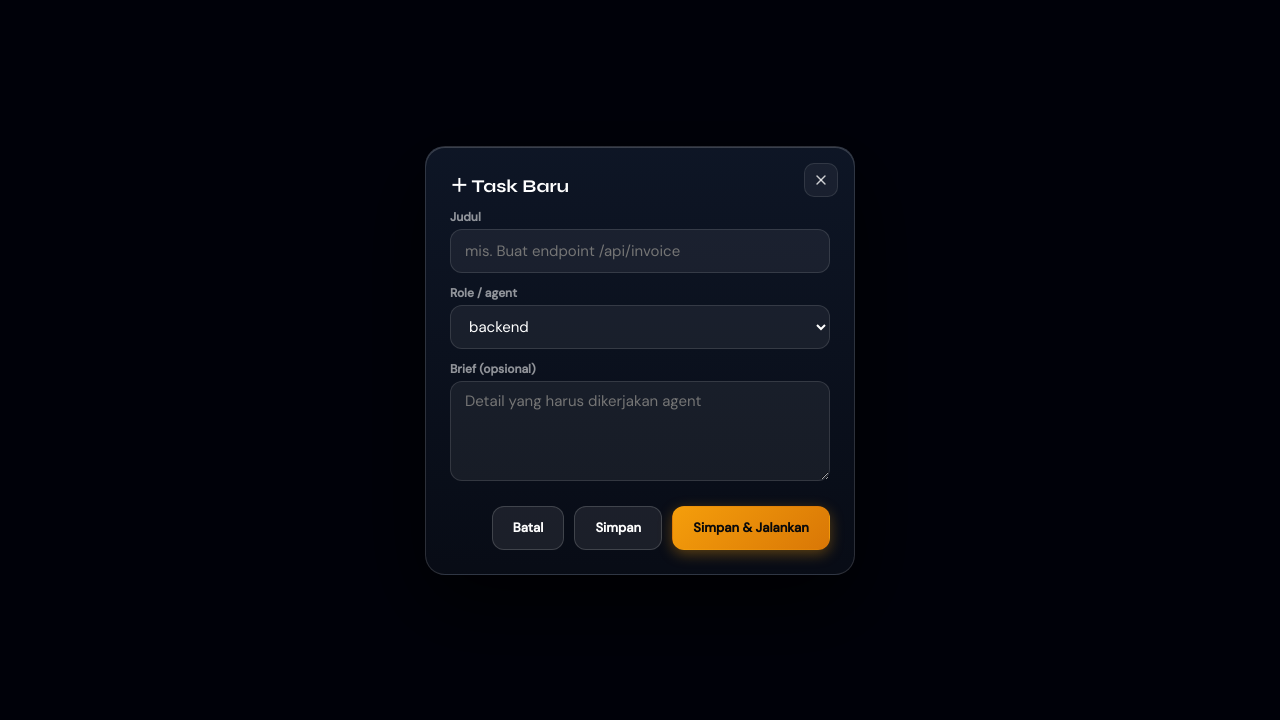
TaskModal › error API saat submit → pesan tampil di elemen alert, modal tetap terbuka
Type "X" into the field labelled "Judul" at (640, 250), box [450,228,830,272]
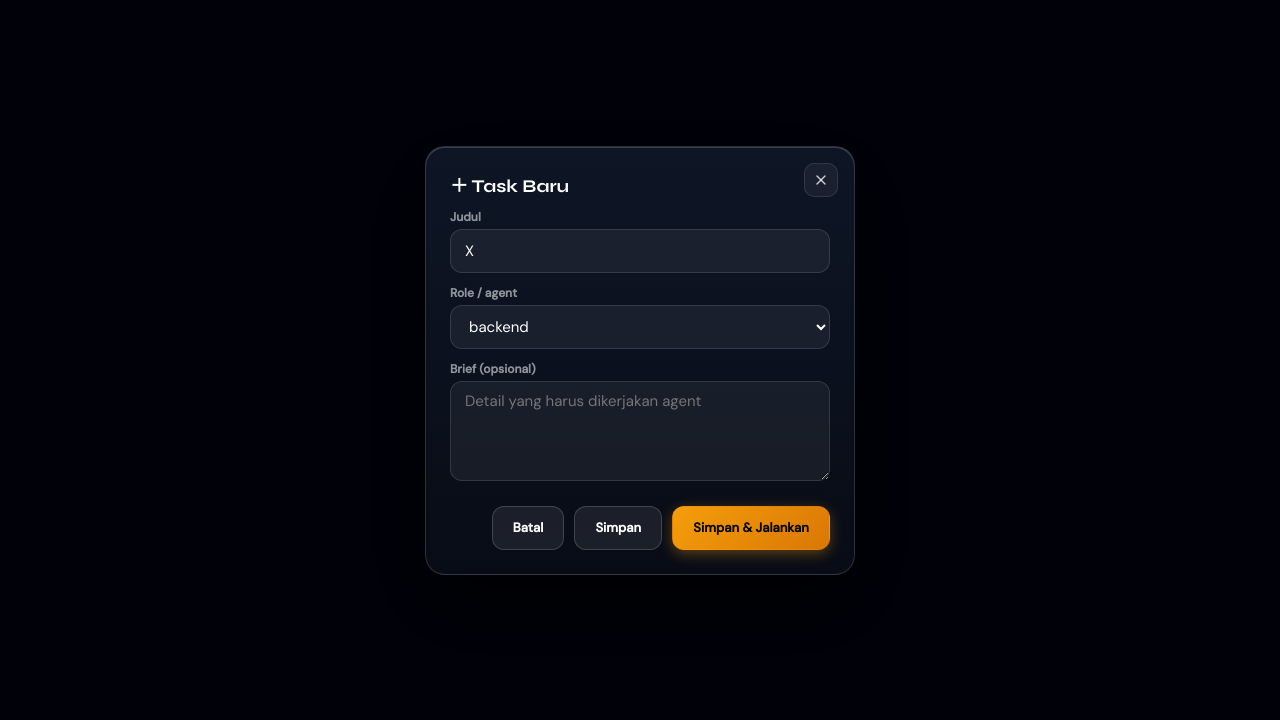
Click the button "Simpan" at (618, 528), box [574,506,662,550]
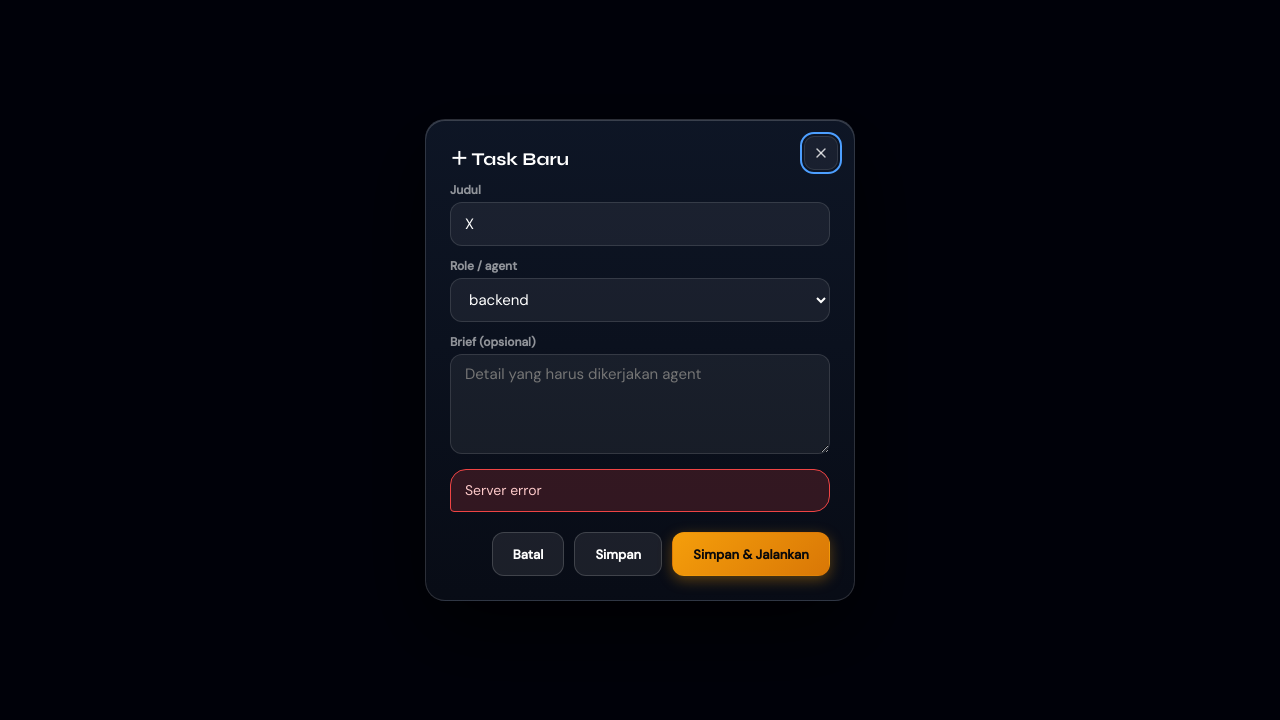
Check: the button "Simpan" is enabled, box [574,532,662,576]
Check: the text "Server error" is shown, box [450,469,830,512]
Check: the message reads "Server error", box [465,481,542,499]
